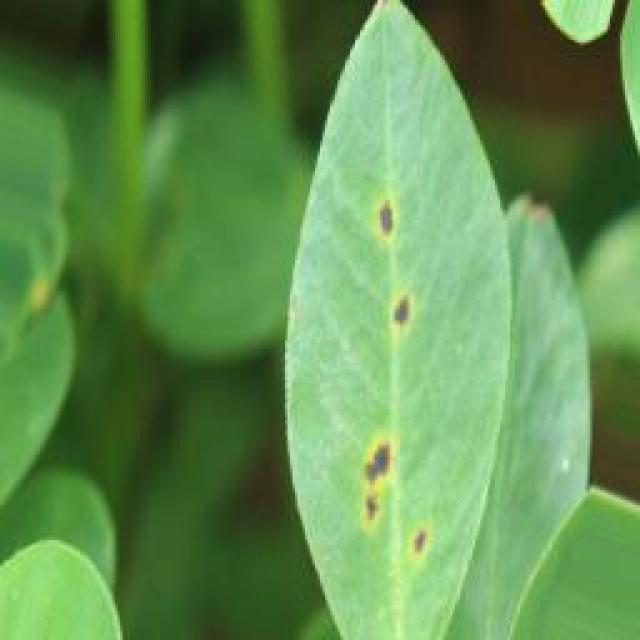Sigatoka: (323, 402, 438, 554), (331, 182, 438, 341)
